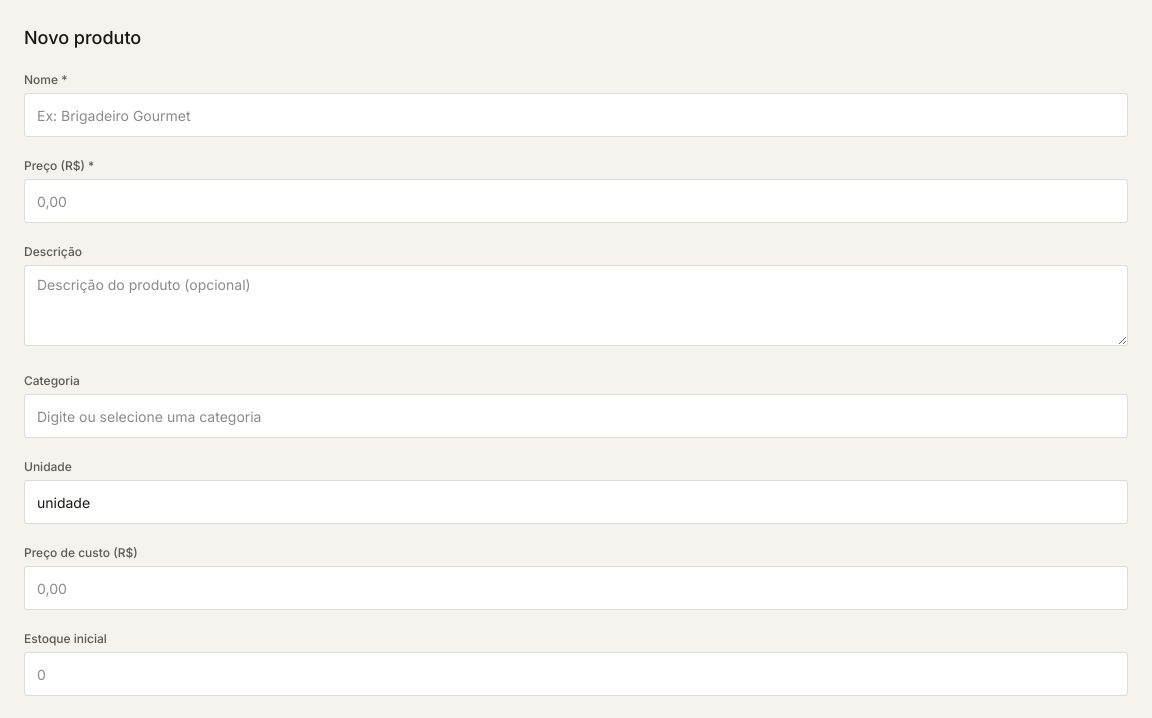
Test case: ProductForm › Combobox de categoria — case-insensitive › digitar "tru" exibe sugestão "Trufas"
Type "tru" into the field named "Categoria do produto".
click(576, 416); type("tru")  # box [24, 394, 1128, 438]
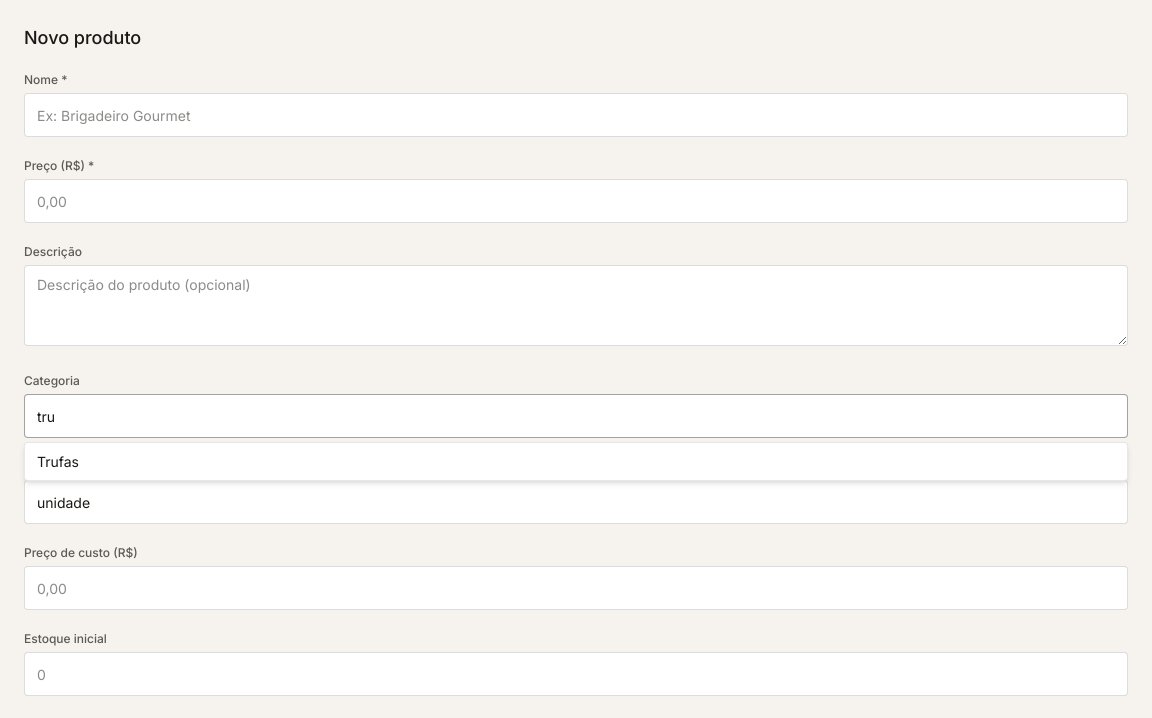
Check: the option "Trufas" is shown, box [37, 453, 79, 470]
